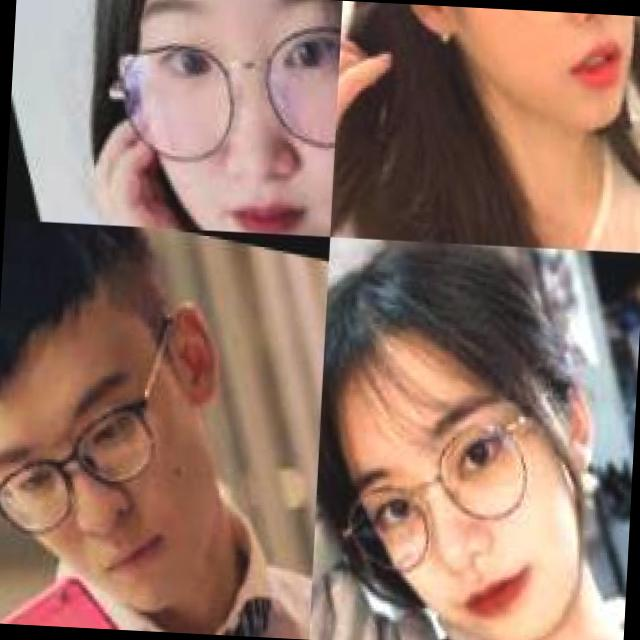glasses: (310, 337, 599, 628), (0, 265, 230, 573), (88, 0, 340, 231), (423, 5, 640, 79)
